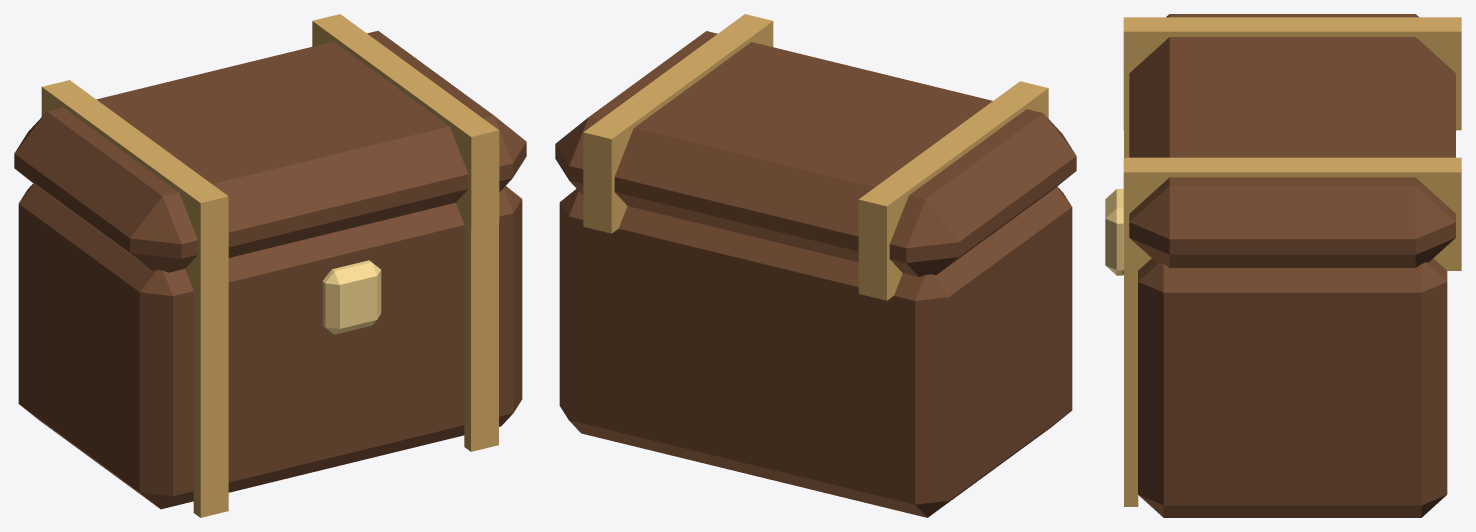
Rendered from chest.glb.
3 views of the same model, side by side, from view 1: azimuth 30°, elevation 25°; view 2: azimuth 150°, elevation 25°; view 3: azimuth 270°, elevation 25° (orthographic). The views are drawn at different scales.
Parts seen in each view (by area): view 1: Chest box, Rounded lid, Brass binding.001, Brass binding, Front band, Front band.001, Lock; view 2: Chest box, Rounded lid, Brass binding, Brass binding.001; view 3: Chest box, Rounded lid, Brass binding.001, Brass binding, Front band.001, Lock.
Part boxes in pixels (left/top/right/bottom): Chest box: left=18, top=183, right=522, bottom=509; Rounded lid: left=14, top=31, right=526, bottom=272; Brass binding.001: left=312, top=14, right=499, bottom=229; Brass binding: left=41, top=80, right=228, bottom=295; Front band: left=193, top=273, right=228, bottom=517; Front band.001: left=464, top=206, right=498, bottom=451; Lock: left=322, top=260, right=381, bottom=334; Chest box: left=559, top=186, right=1072, bottom=517; Rounded lid: left=555, top=31, right=1076, bottom=276; Brass binding: left=858, top=81, right=1048, bottom=300; Brass binding.001: left=583, top=14, right=773, bottom=233; Chest box: left=1138, top=258, right=1447, bottom=517; Rounded lid: left=1129, top=14, right=1455, bottom=267; Brass binding.001: left=1123, top=157, right=1461, bottom=270; Brass binding: left=1123, top=17, right=1461, bottom=130; Front band.001: left=1124, top=247, right=1138, bottom=506; Lock: left=1105, top=189, right=1123, bottom=275.
Bounding box in the file's own units: 0.85 × 0.645 × 0.622.
